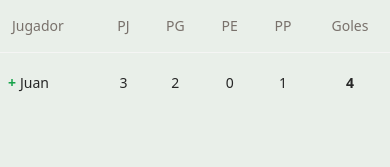
Test: TablaJugadores responsive › muestra Goles y expande detalle al tap
Check: the button "Goles" is shown, box top-left (324, 4), bottom-right (376, 48)
Check: the text "4" is shown, box top-left (310, 52), bottom-right (389, 113)
Click the button with aria-label "Detalle de Juan": [28, 83] box top-left (8, 61), bottom-right (49, 105)
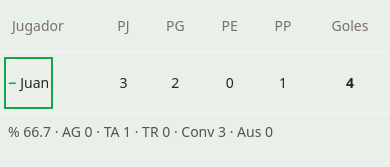
Check: the text "% 66.7 ·" is shown, box top-left (8, 122), bottom-right (62, 141)
Check: the text "% 66.7 · AG 0 · TA 1 · TR 0 · Conv 3 · Aus 0" is shown, box top-left (0, 114), bottom-right (389, 150)
Click the button with aria-label "Detalle de Juan": [29, 83] box top-left (8, 61), bottom-right (49, 105)
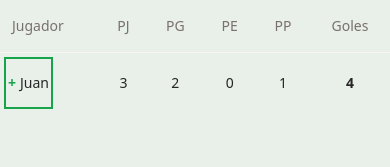
Check: the text "AG 0 · TA 1" is gone
